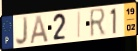1: (109, 7, 118, 36)
2: (52, 11, 69, 44)
A: (29, 14, 50, 45)
I: (77, 11, 82, 40)
J: (15, 16, 29, 47)
R: (89, 7, 107, 40)
